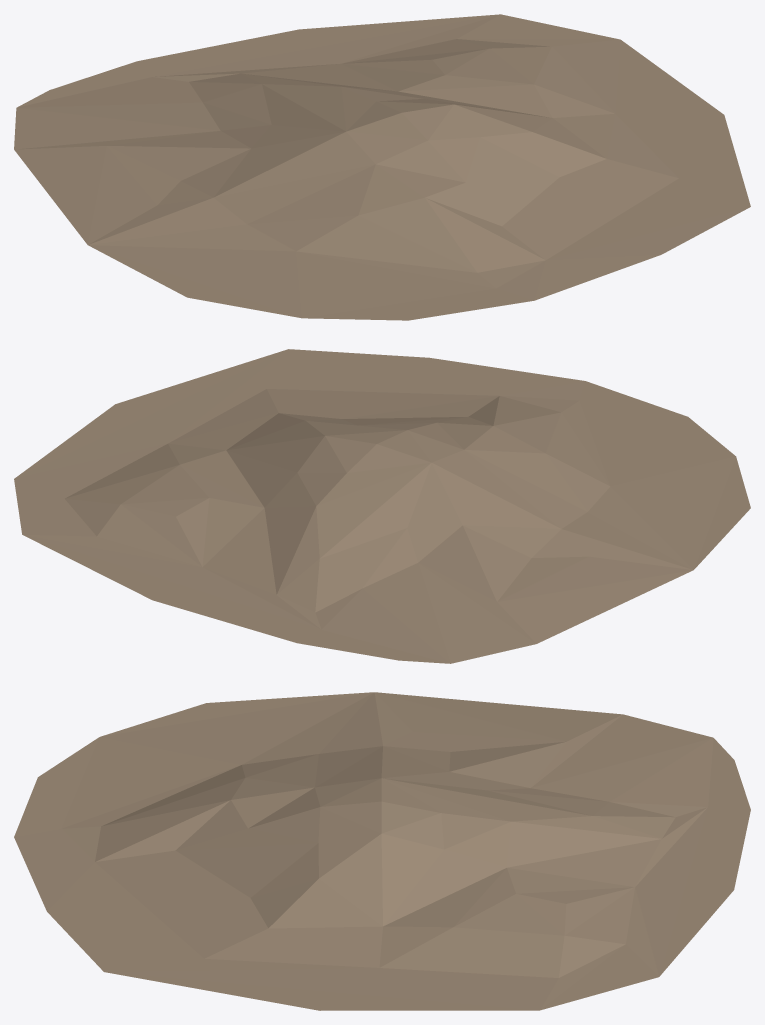
File: SM_Env_GroundMound_01.FBX
3 views of the same model, one above another, from view 1: azimuth 30°, elevation 25°; view 2: azimuth 150°, elevation 25°; view 3: azimuth 270°, elevation 25° (orthographic). The views are drawn at different scales.
Parts seen in each view (by area): view 1: SM_Env_GroundMound_01; view 2: SM_Env_GroundMound_01; view 3: SM_Env_GroundMound_01.
Part boxes in pixels (box(x1,y1,x2,y2)): SM_Env_GroundMound_01: box(14, 14, 750, 320); SM_Env_GroundMound_01: box(14, 349, 750, 663); SM_Env_GroundMound_01: box(14, 692, 750, 1010).
Size of what is drawn, in the model's own units: 849 by 830 by 69.73.
